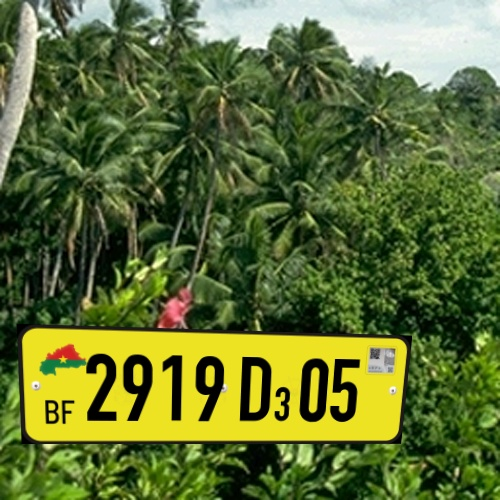plate: (13, 307, 418, 464)
